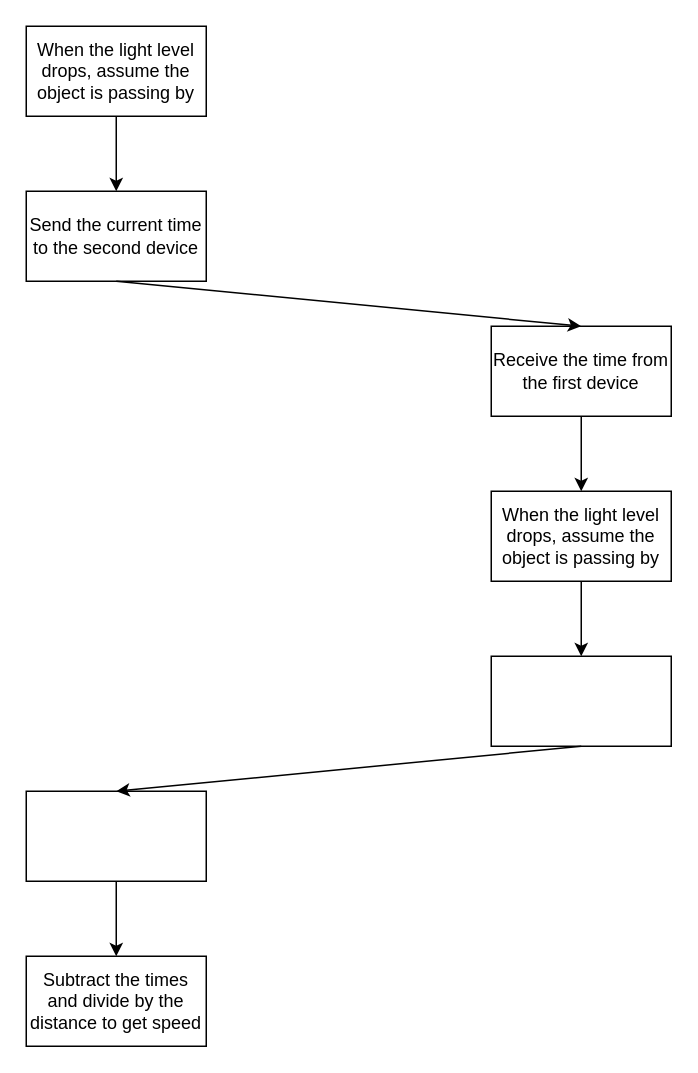
Some shapes in this 698 by 1073 pixel diagram are drawn without their labels. Here are the shapes that lost their labels. From the top down, the centre of each, then its label:
At point (580, 700): "Send the current time to the first device".
At point (115, 835): "Receive the time from the second device".
